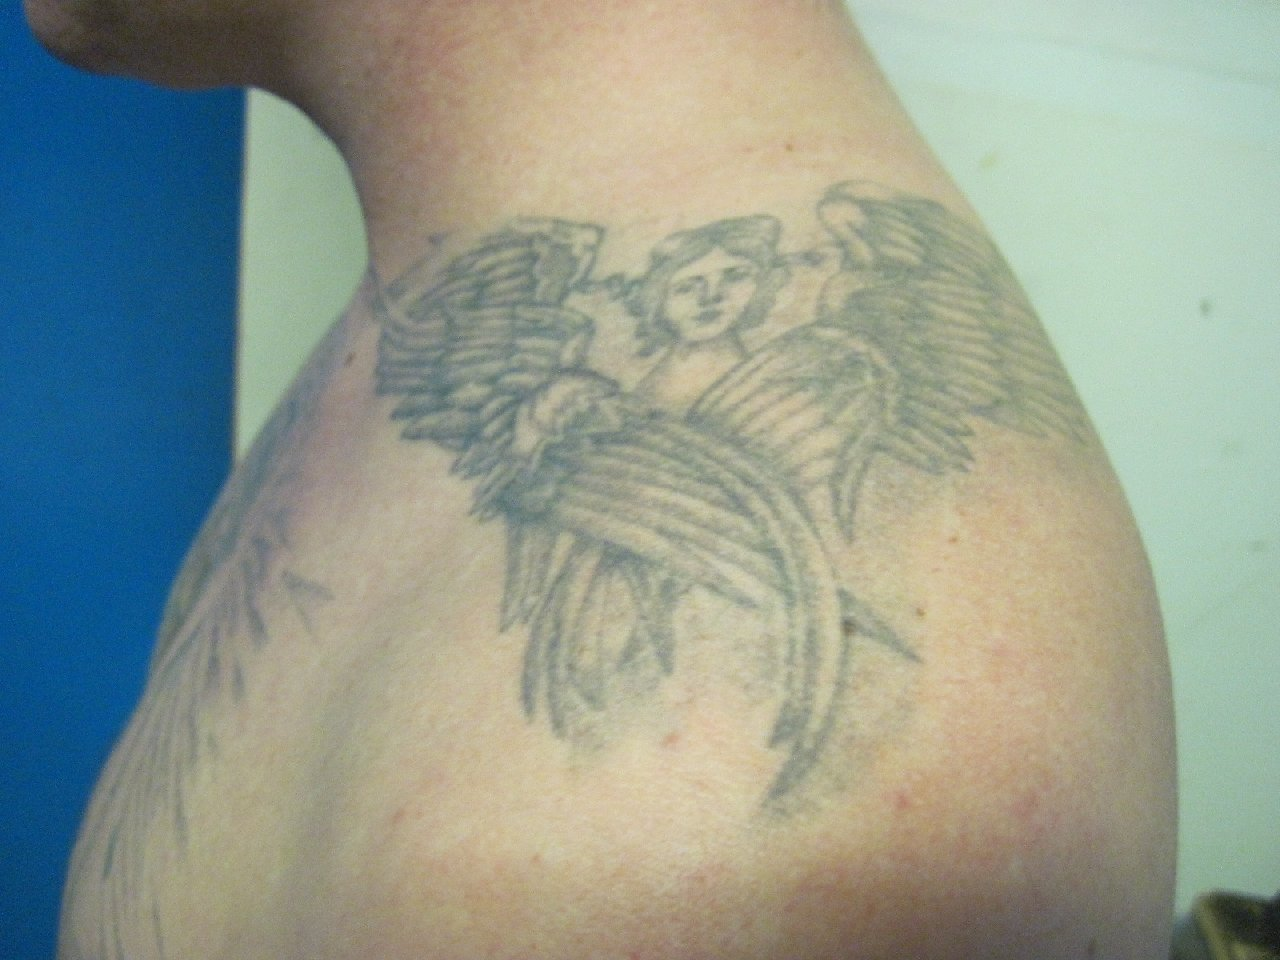tatu1_angel: (390, 139, 1060, 689)
